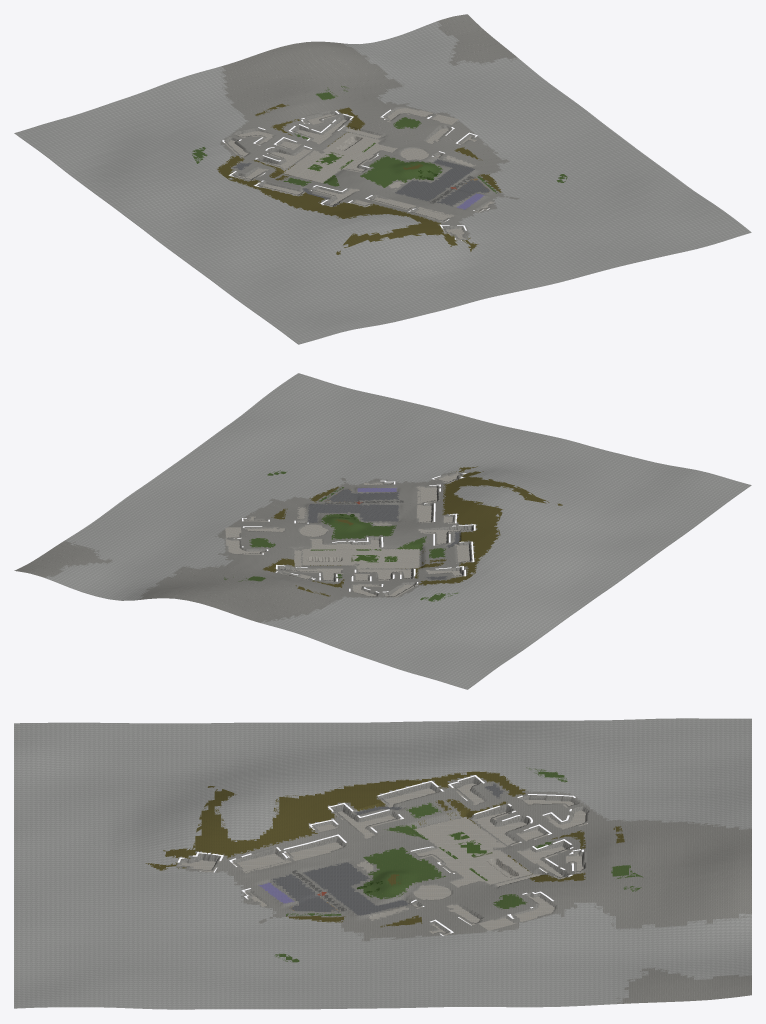
The picture shows the model from 3 angles, top to bottom: view 1: azimuth 30°, elevation 25°; view 2: azimuth 150°, elevation 25°; view 3: azimuth 270°, elevation 25°; orthographic projection. The views are drawn at different scales.
Parts seen in each view (by area): view 1: ground-base, ground-campusBase, ground-paving, ground-wood, ground-grass, ground-asphalt, ground-wood-overlay, ground-campusBase-overlay; view 2: ground-base, ground-campusBase, ground-paving, ground-wood, ground-asphalt, ground-grass, ground-wood-overlay, ground-campusBase-overlay; view 3: ground-base, ground-campusBase, ground-paving, ground-wood, ground-grass, ground-asphalt, ground-wood-overlay, ground-campusBase-overlay, ground-grass-overlay.
Boxes of the visible parts, left/top/right/bottom form: ground-base: left=14, top=21, right=751, bottom=344; ground-campusBase: left=220, top=14, right=516, bottom=239; ground-paving: left=224, top=108, right=494, bottom=239; ground-wood: left=217, top=107, right=500, bottom=250; ground-grass: left=193, top=92, right=564, bottom=186; ground-asphalt: left=234, top=159, right=489, bottom=206; ground-wood-overlay: left=217, top=103, right=502, bottom=254; ground-campusBase-overlay: left=218, top=24, right=519, bottom=237; ground-base: left=44, top=373, right=751, bottom=689; ground-campusBase: left=14, top=471, right=477, bottom=622; ground-paving: left=225, top=472, right=473, bottom=597; ground-wood: left=263, top=467, right=544, bottom=596; ground-asphalt: left=308, top=489, right=460, bottom=579; ground-grass: left=247, top=471, right=445, bottom=601; ground-wood-overlay: left=264, top=466, right=562, bottom=596; ground-campusBase-overlay: left=45, top=472, right=501, bottom=623; ground-base: left=14, top=718, right=751, bottom=1009; ground-campusBase: left=176, top=775, right=751, bottom=1003; ground-paving: left=178, top=783, right=587, bottom=935; ground-wood: left=150, top=772, right=619, bottom=925; ground-grass: left=279, top=771, right=628, bottom=959; ground-asphalt: left=273, top=784, right=502, bottom=915; ground-wood-overlay: left=145, top=771, right=624, bottom=927; ground-campusBase-overlay: left=176, top=772, right=751, bottom=1003; ground-grass-overlay: left=274, top=767, right=643, bottom=962.
Size of the model in its own units: 840 by 46.29 by 912.
Materials: 25 (25 with a texture image).
